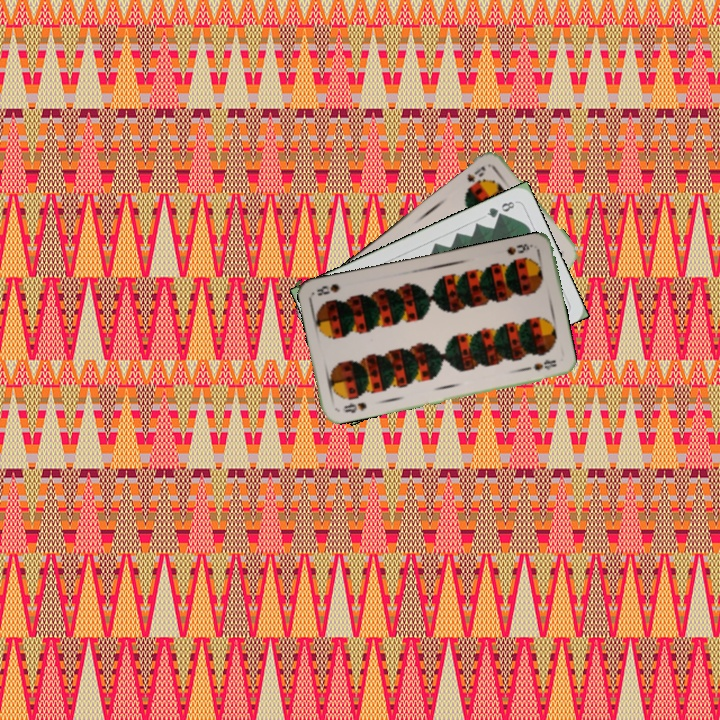G8: (483, 197, 517, 220)
S8: (503, 239, 535, 258), (338, 398, 369, 416)
SO: (463, 162, 488, 185)
